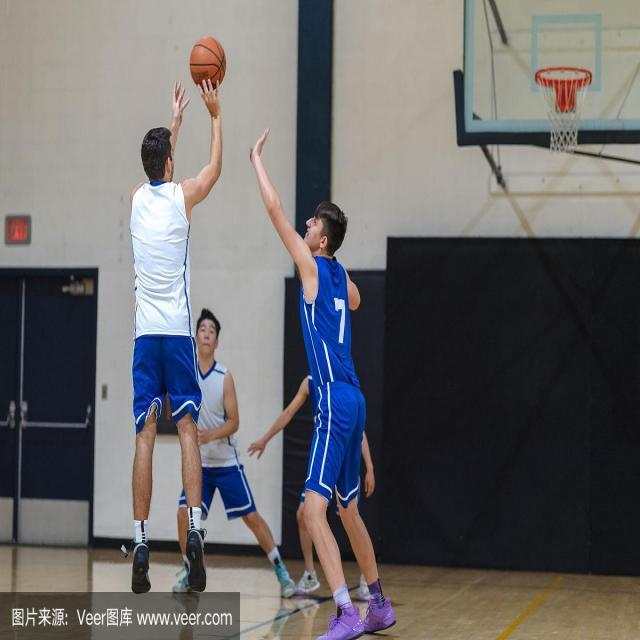rim: (192, 35, 226, 89)
